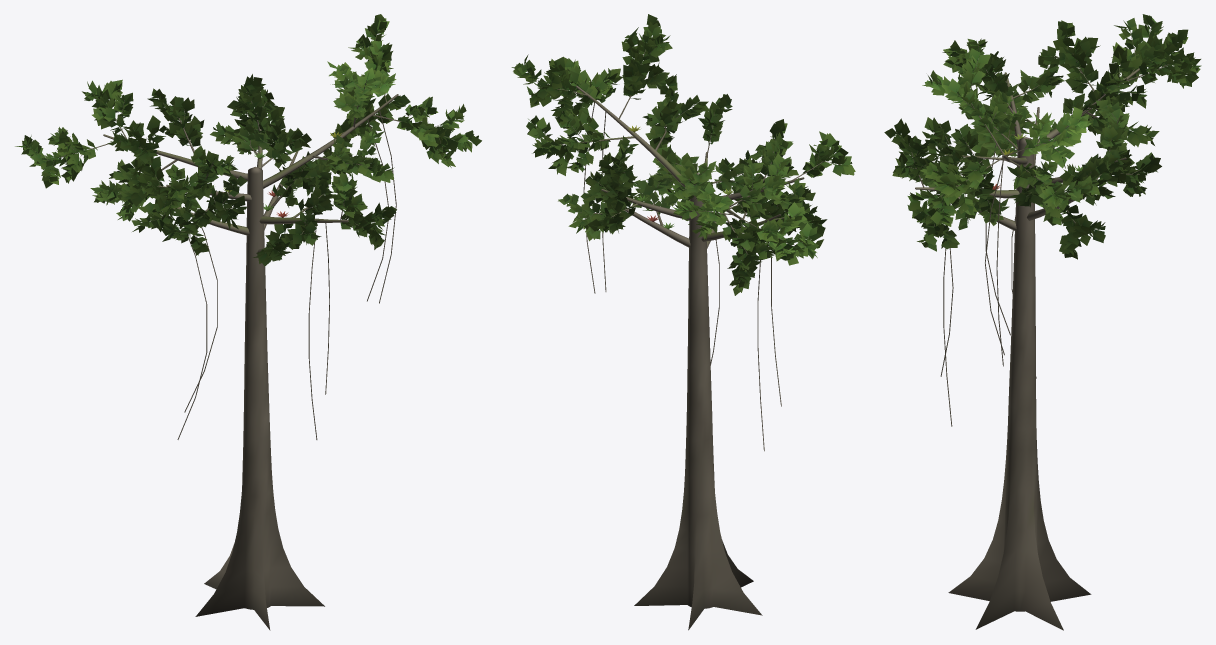
File: emergent-b.lod0.glb
3 renders of one model, left to right at view 1: azimuth 30°, elevation 25°; view 2: azimuth 150°, elevation 25°; view 3: azimuth 270°, elevation 25°, orthographic. The views are drawn at different scales.
Bounding box in the file's own units: 14.03 × 19.59 × 9.63.
